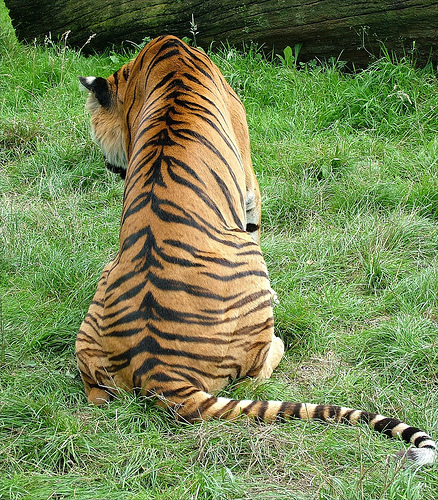Tigre: (73, 37, 307, 415)
